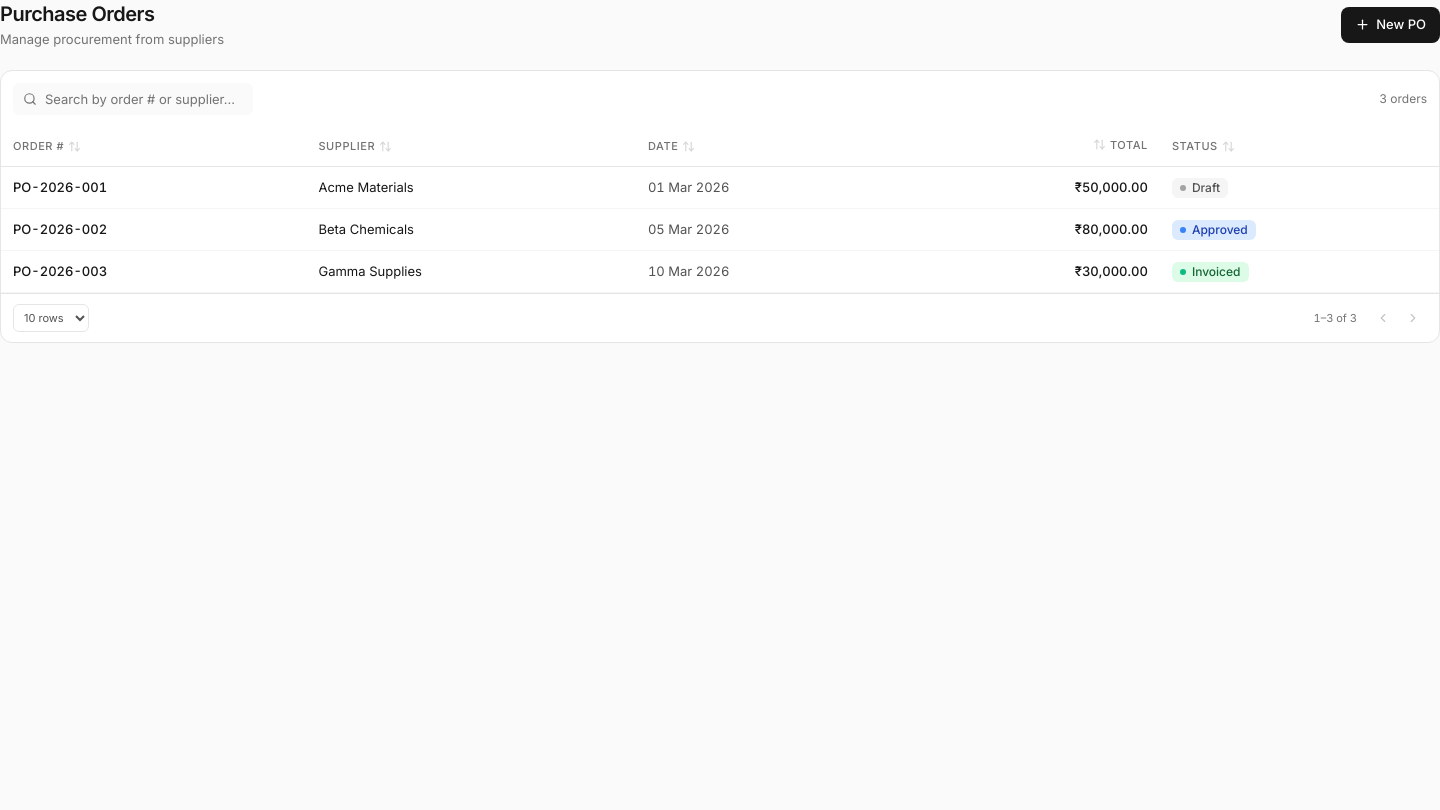
Scenario: PurchaseOrdersPage › shows Approve and Void actions in detail modal for DRAFT PO (VAL-P2P-004)
Note: Click on the DRAFT order row to open detail
Step 1. Click the text "PO-2026-001" → [60, 186], box [13, 178, 107, 194]
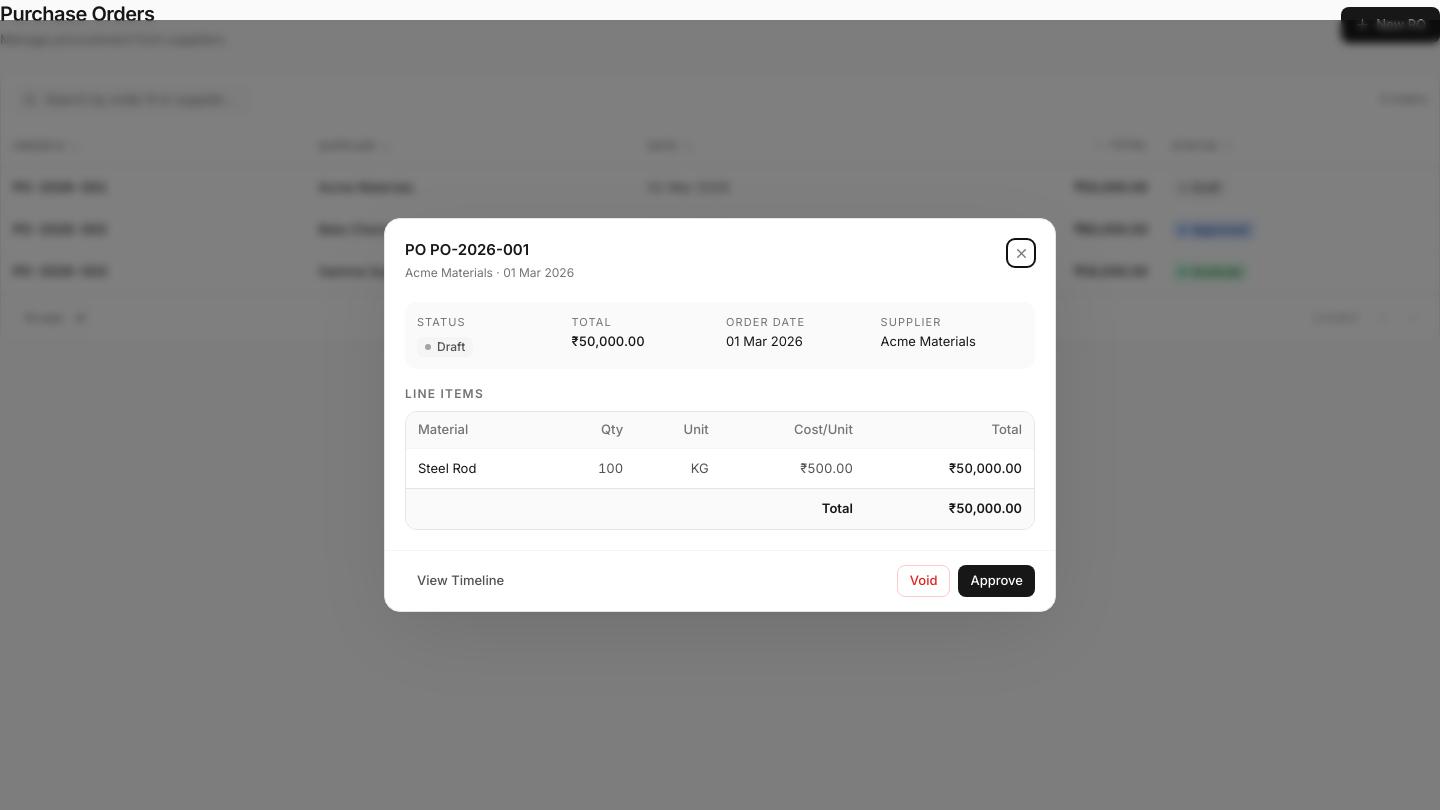
Expected: the button "Approve" is shown, [958, 565, 1035, 597]
Expected: the button "Void" is shown, [897, 565, 950, 597]
